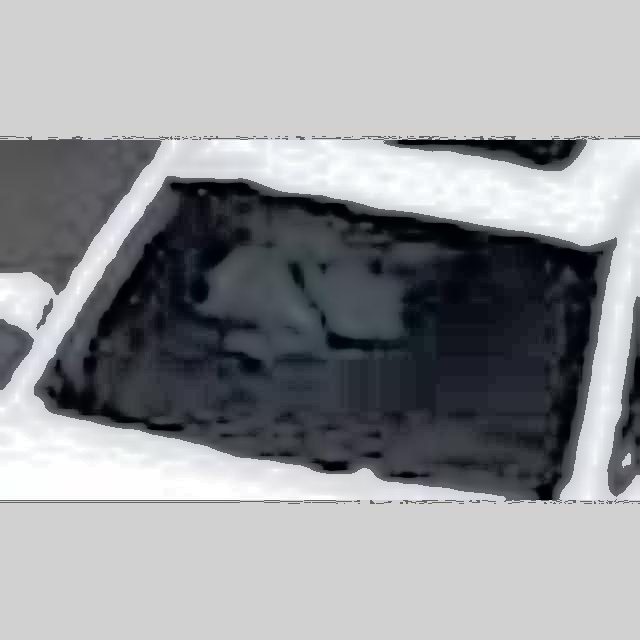pakai: (197, 235, 443, 419)
